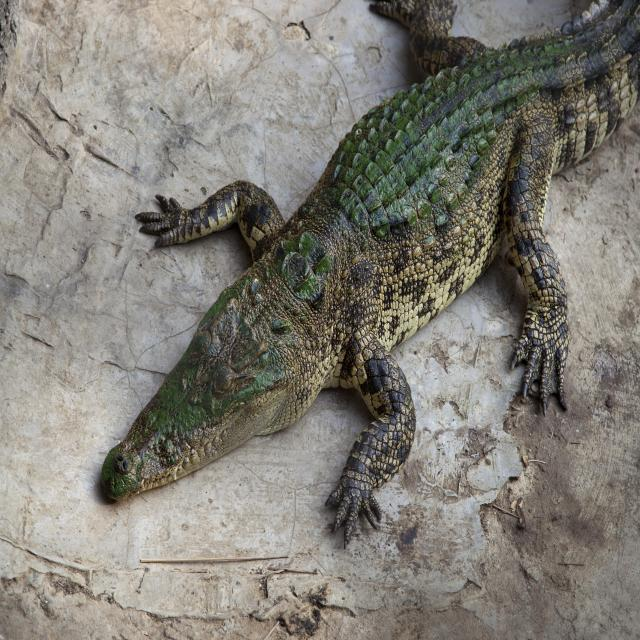crocodile: (100, 2, 639, 559)
